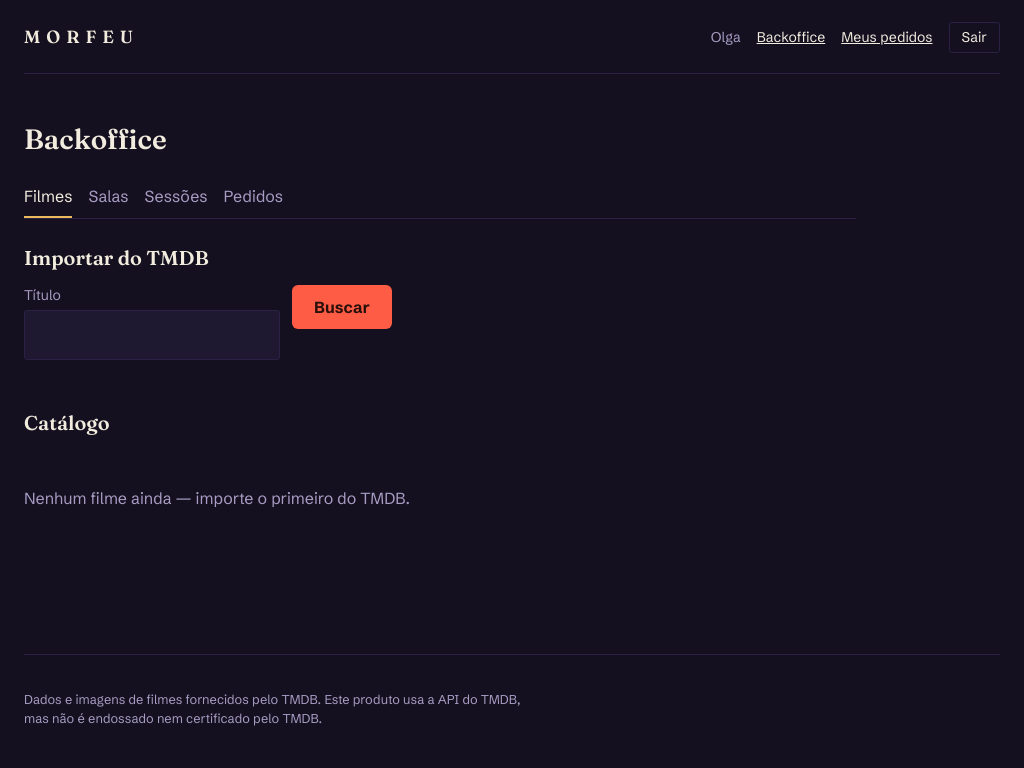
Test: filmes › TMDB fora do ar: mensagem própria
Type "duna" into the field labelled "Título" at {"x": 152, "y": 335}, box [24, 310, 280, 360]
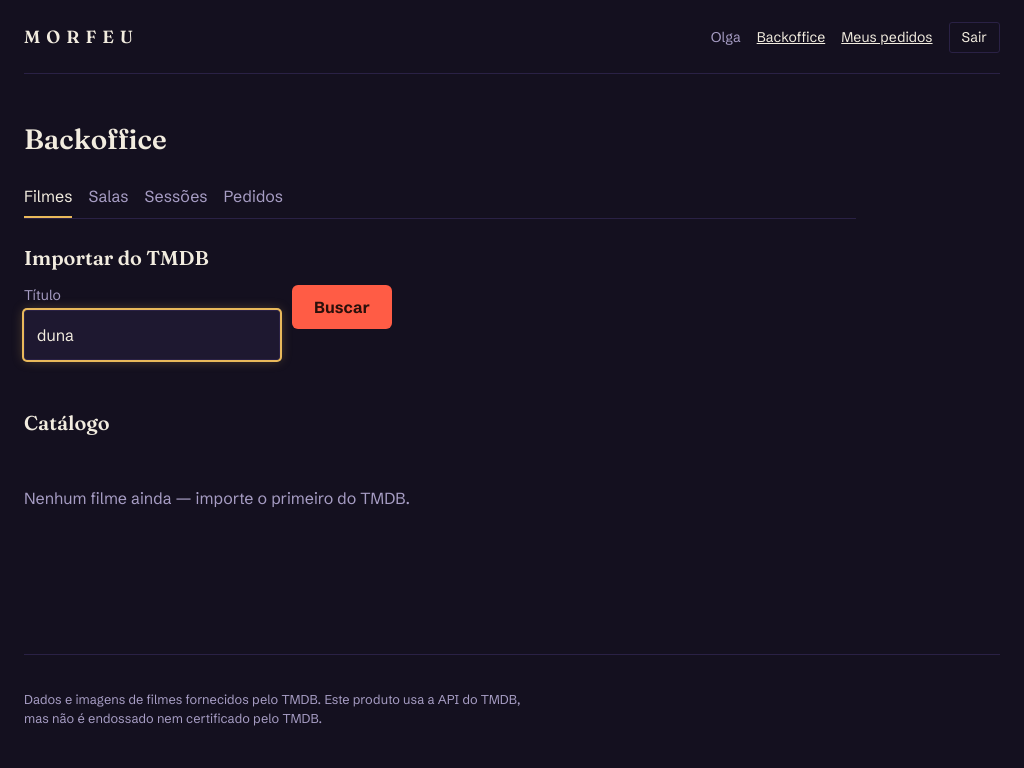
Click the button "Buscar" at {"x": 342, "y": 307}, box [292, 285, 392, 329]
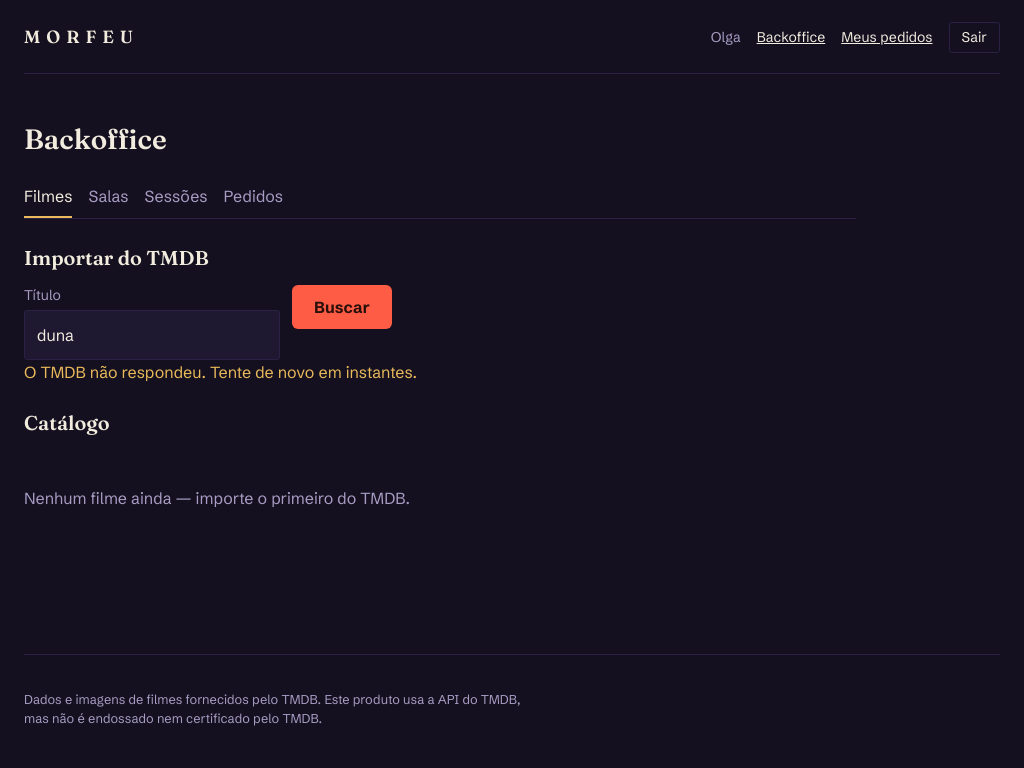
Expected: the text "O TMDB não respondeu. Tente de novo em instantes." is shown, [24, 362, 417, 382]
